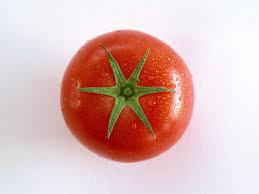tomato: (60, 29, 196, 162)
